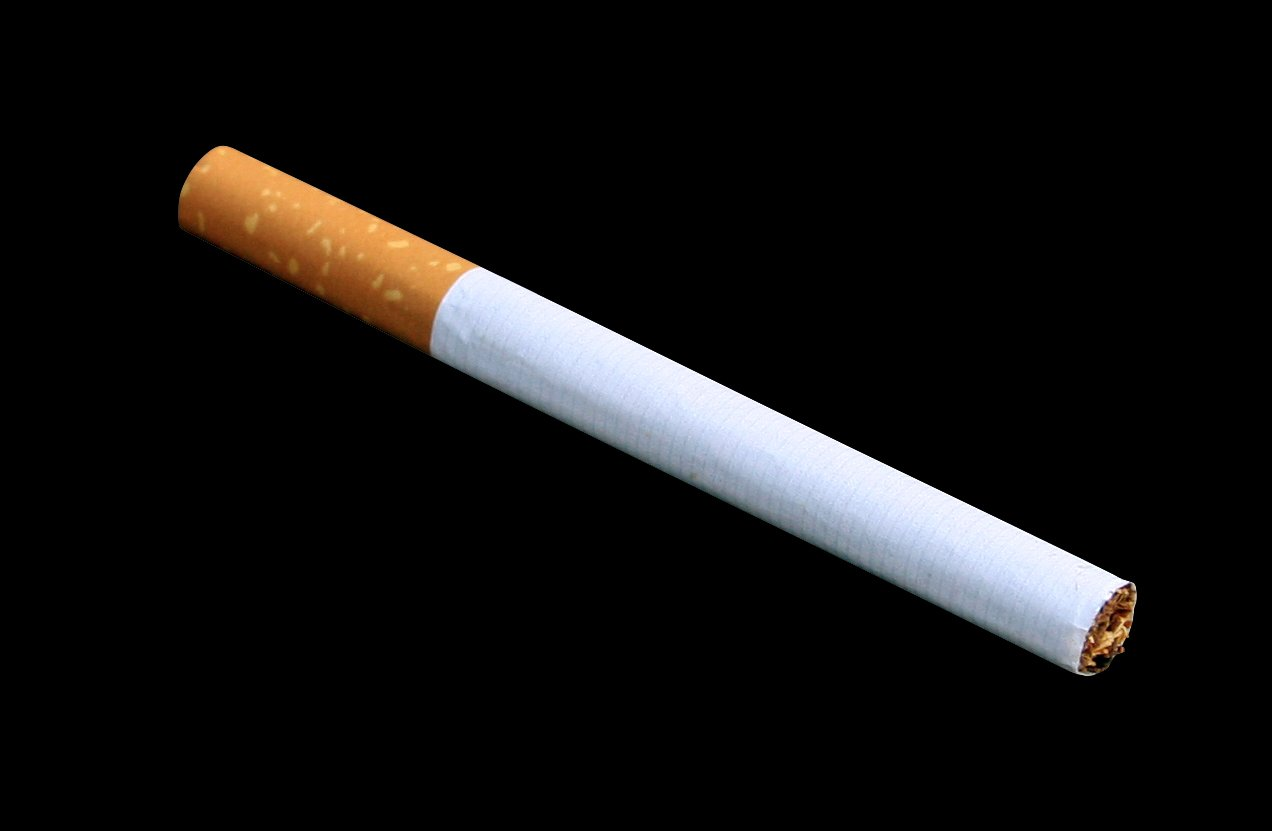cigarette: (170, 139, 1144, 681)
